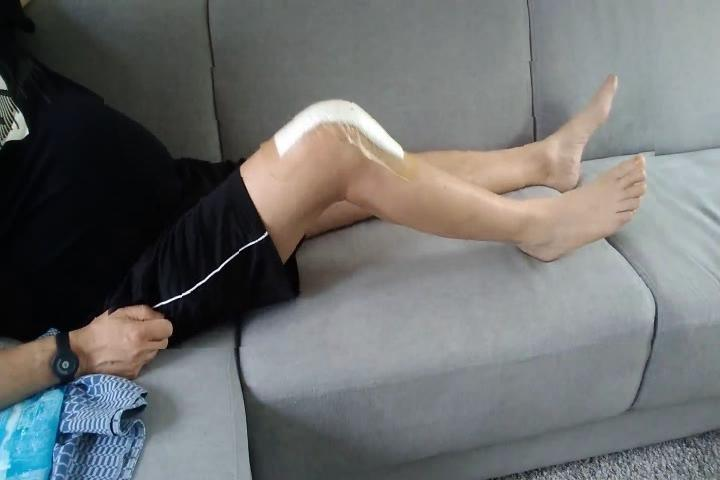lower_body: (106, 63, 658, 348)
